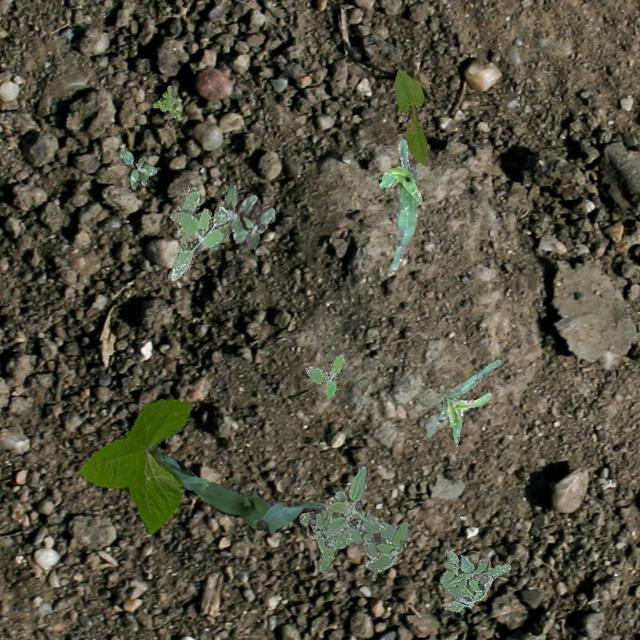crop: (76, 398, 190, 532), (158, 453, 328, 531), (426, 358, 500, 442), (378, 138, 422, 268), (394, 68, 426, 165)
weed: (320, 462, 408, 570), (166, 188, 228, 280), (438, 548, 509, 610), (208, 182, 274, 248), (298, 508, 352, 570), (304, 353, 344, 398), (118, 148, 156, 188), (152, 84, 180, 120)
